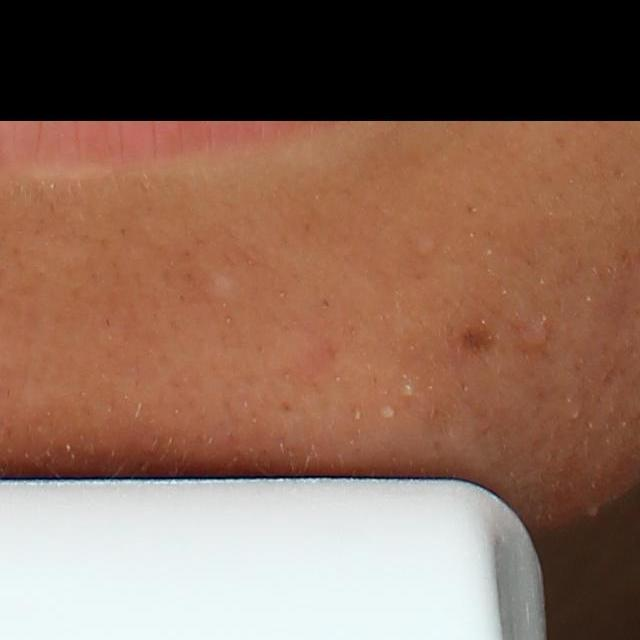comedo: (409, 237, 439, 257), (397, 381, 417, 400)
hypertrophic_scar: (191, 263, 241, 304)
nevus: (460, 327, 499, 354)
